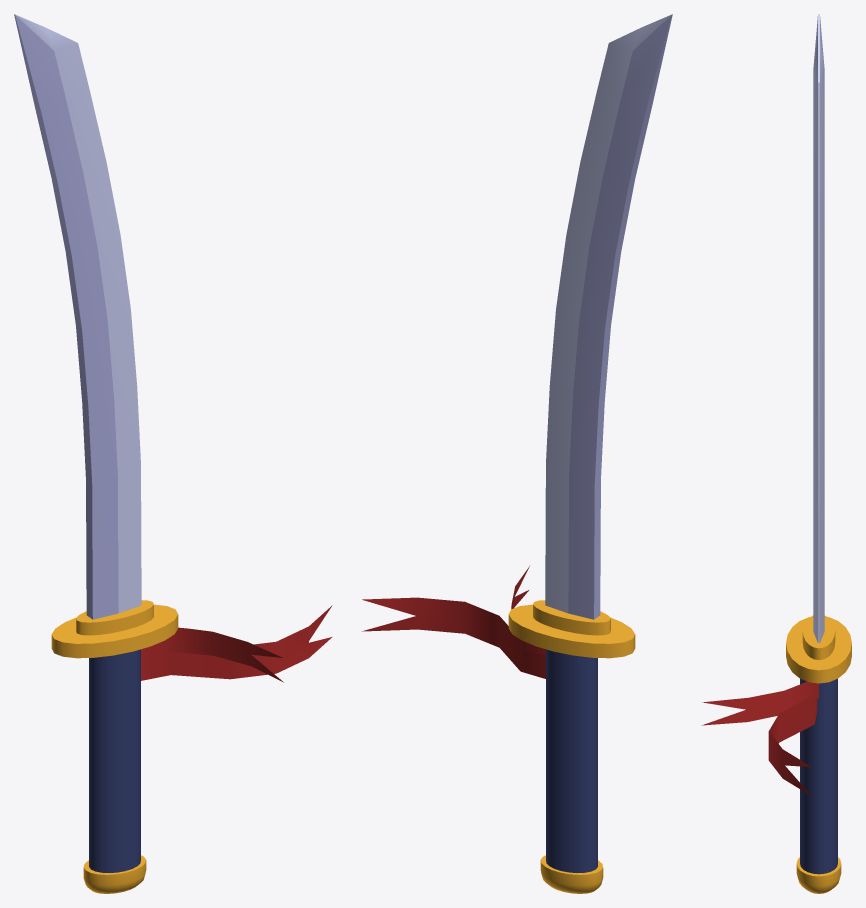
Rendered from katana.fbx.
3 renders of one model, left to right at view 1: azimuth 30°, elevation 25°; view 2: azimuth 150°, elevation 25°; view 3: azimuth 270°, elevation 25°, orthographic. The views are drawn at different scales.
Visible parts, largest first — view 1: Katana_snow_11; view 2: Katana_snow_11; view 3: Katana_snow_11.
Boxes of the visible parts, x1,y1,x2,y2 form: Katana_snow_11: (14,14,332,893); Katana_snow_11: (361,14,672,893); Katana_snow_11: (701,14,851,893).
Size of the model in its own units: 194 by 528 by 87.39.
